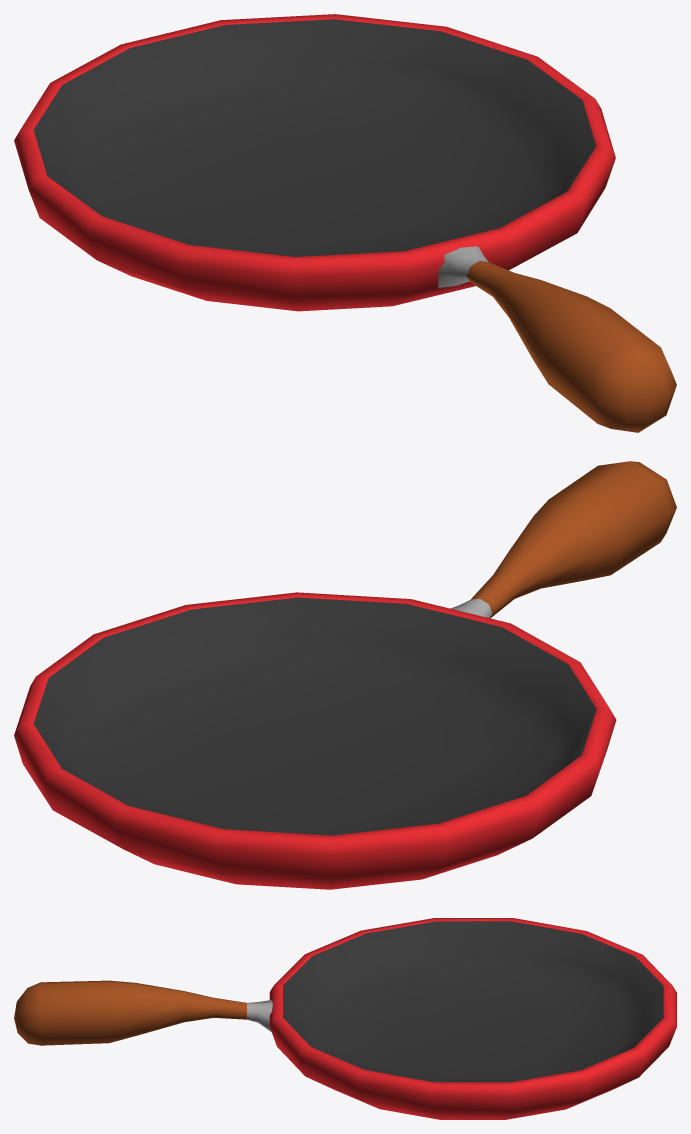
Rendered from TheFrying.fbx.
3 renders of one model, top to bottom at view 1: azimuth 30°, elevation 25°; view 2: azimuth 150°, elevation 25°; view 3: azimuth 270°, elevation 25°, orthographic. The views are drawn at different scales.
Parts seen in each view (by area): view 1: Base, Mango; view 2: Base, Mango; view 3: Base, Mango.
Boxes of the visible parts, left/top/right/bottom form: Base: left=14, top=14, right=615, bottom=311; Mango: left=438, top=246, right=676, bottom=432; Base: left=14, top=592, right=616, bottom=889; Mango: left=450, top=461, right=676, bottom=618; Base: left=269, top=918, right=676, bottom=1119; Mango: left=14, top=980, right=272, bottom=1045.
Bounding box in the file's own units: 23.07 × 4.74 × 37.54.
